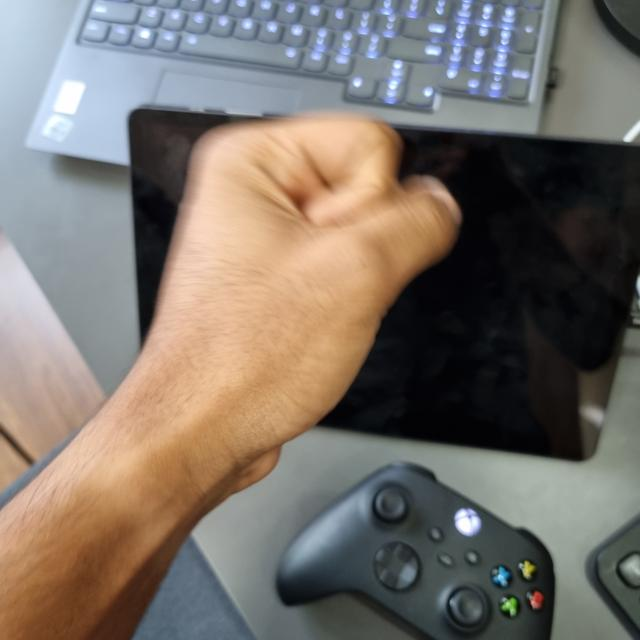Rock: (0, 115, 454, 524)
